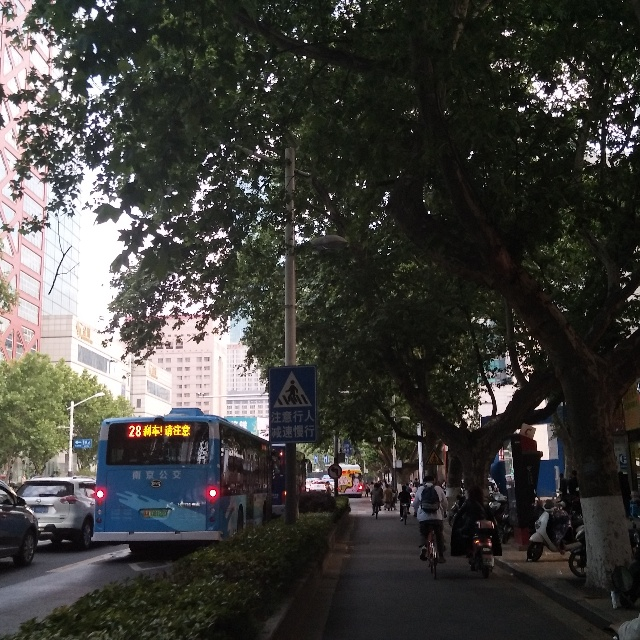crosswalk: (270, 371, 309, 415)
